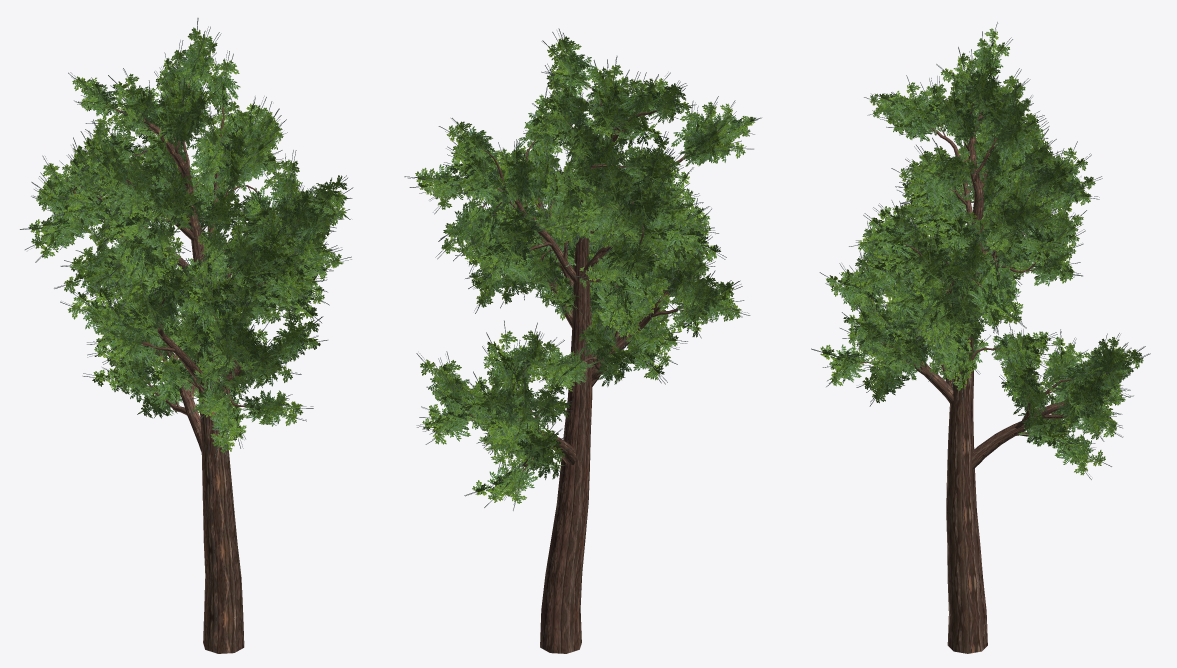
The model's file is eztree-shagbark-hickory-stand-b.glb.
The picture shows the model from 3 angles, left to right: view 1: azimuth 30°, elevation 25°; view 2: azimuth 150°, elevation 25°; view 3: azimuth 270°, elevation 25°; orthographic projection. The views are drawn at different scales.
Parts seen in each view (by area): view 1: eztree-shagbark-hickory-stand-b; view 2: eztree-shagbark-hickory-stand-b; view 3: eztree-shagbark-hickory-stand-b.
Part boxes in pixels (x1=…): eztree-shagbark-hickory-stand-b: x1=20, y1=18, x2=353, y2=653; eztree-shagbark-hickory-stand-b: x1=404, y1=28, x2=761, y2=653; eztree-shagbark-hickory-stand-b: x1=811, y1=22, x2=1150, y2=653.
Bounding box in the file's own units: 37.03 × 77.63 × 43.21.
2 materials, 2 textured.
